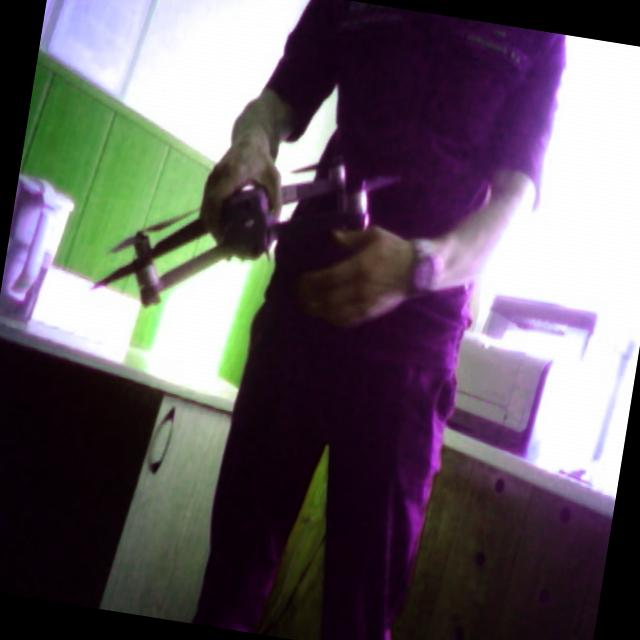drone: (89, 119, 404, 350)
